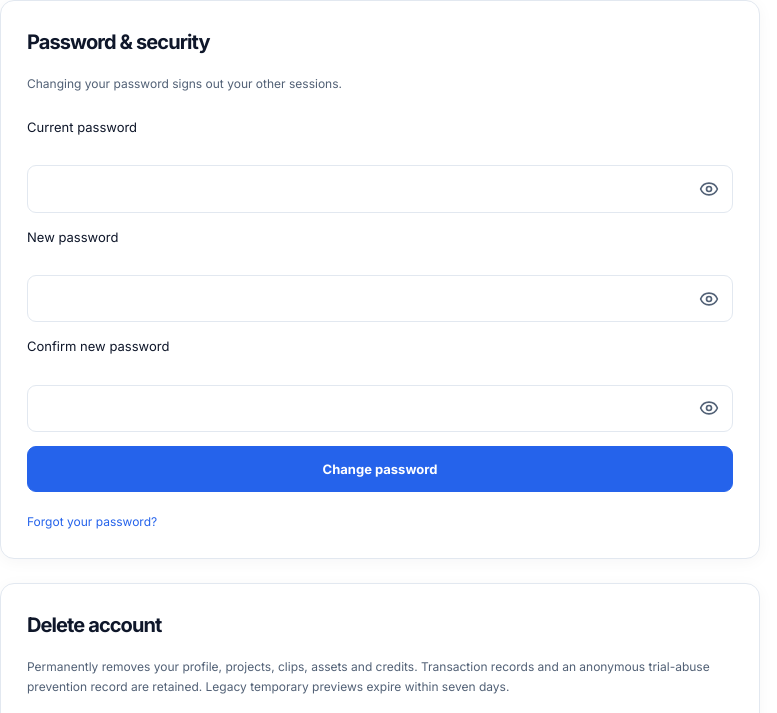
places a server password error beneath the current-password field
Type "wrong-password" into the password field labelled "Current password" at x=380, y=189, box [27,165,733,213]
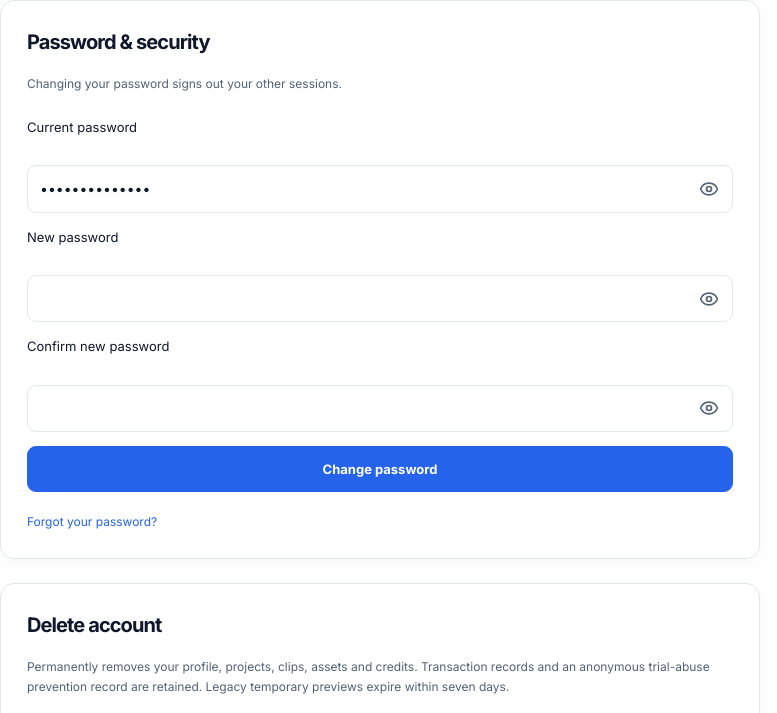
Type "new-password" into the password field labelled "New password" at x=380, y=299, box [27,275,733,322]
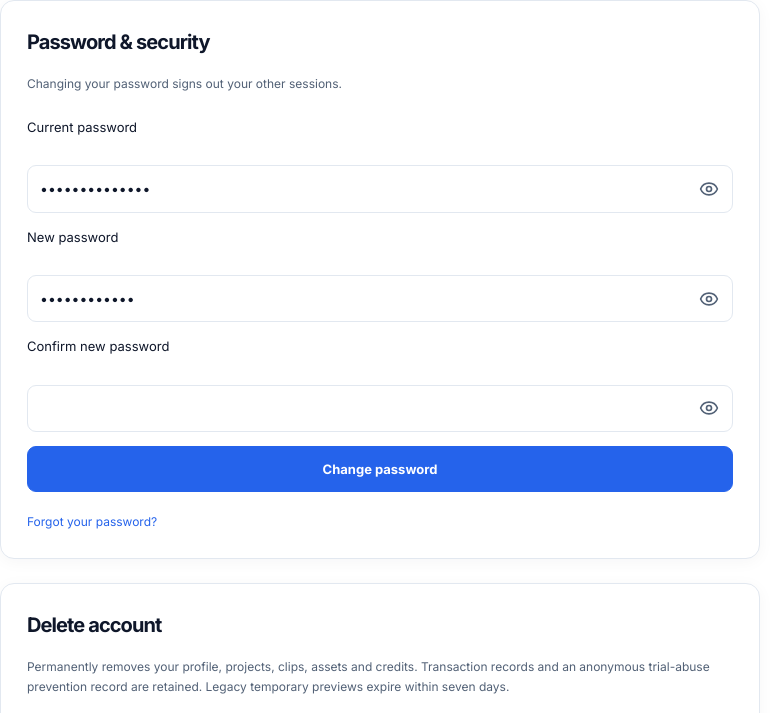
Type "new-password" into the password field labelled "Confirm new password" at x=380, y=408, box [27,385,733,432]
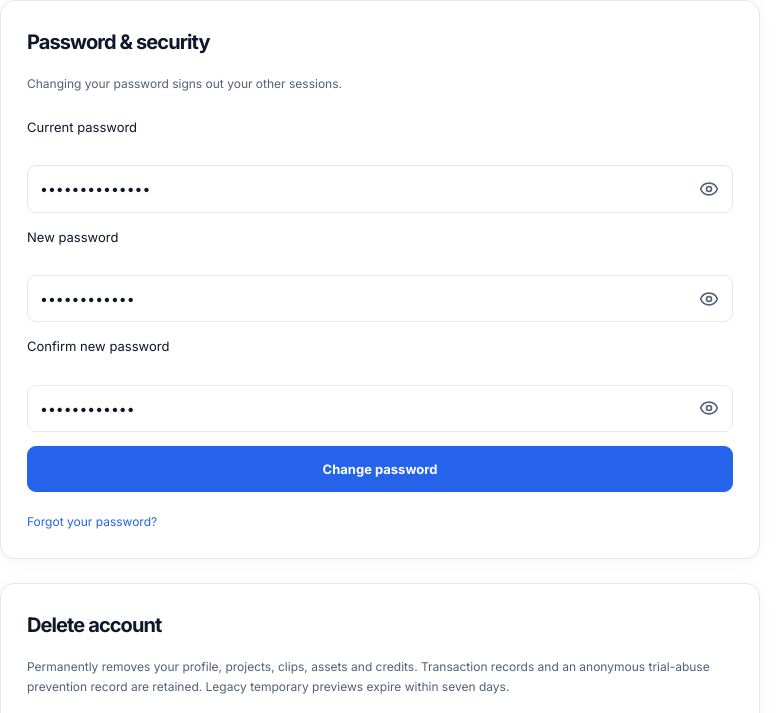
Submit the text "Change password", box [27,117,733,492]
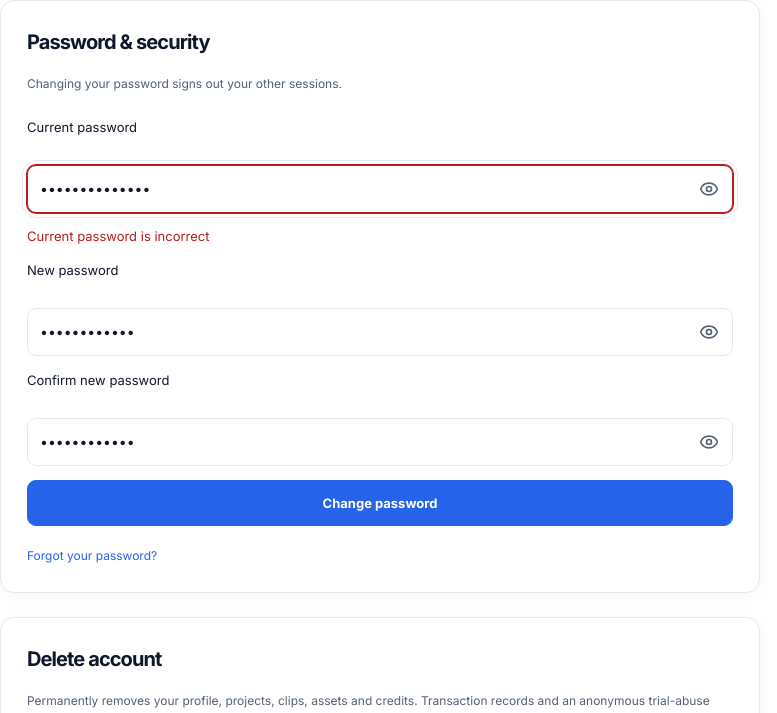
Result: the text "Current password is incorrect" is shown at [27,228,210,244]
